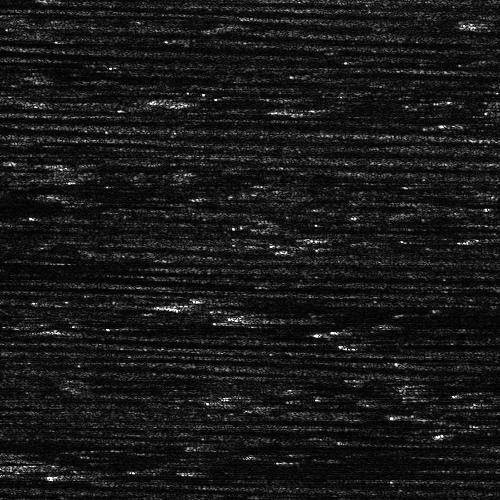object: (81, 299, 238, 310), (210, 313, 315, 322), (0, 458, 71, 471), (15, 329, 108, 336), (329, 340, 412, 347), (20, 471, 103, 478), (323, 326, 386, 333), (161, 443, 234, 448), (382, 411, 445, 416), (176, 99, 207, 102), (0, 438, 11, 445)
shadow: (160, 299, 405, 310), (263, 313, 500, 322), (0, 251, 46, 276), (62, 329, 224, 336), (62, 471, 220, 478), (34, 458, 113, 471), (0, 438, 131, 445), (355, 326, 441, 333), (371, 340, 457, 347), (278, 226, 443, 229), (414, 411, 499, 416), (197, 443, 280, 448), (0, 54, 31, 65), (192, 99, 265, 102)
